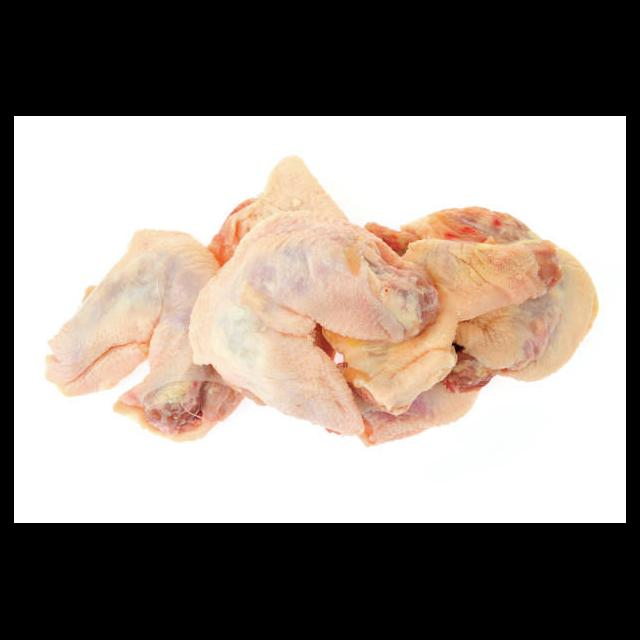chicken: (336, 205, 600, 448), (190, 210, 440, 452), (39, 223, 251, 442)
